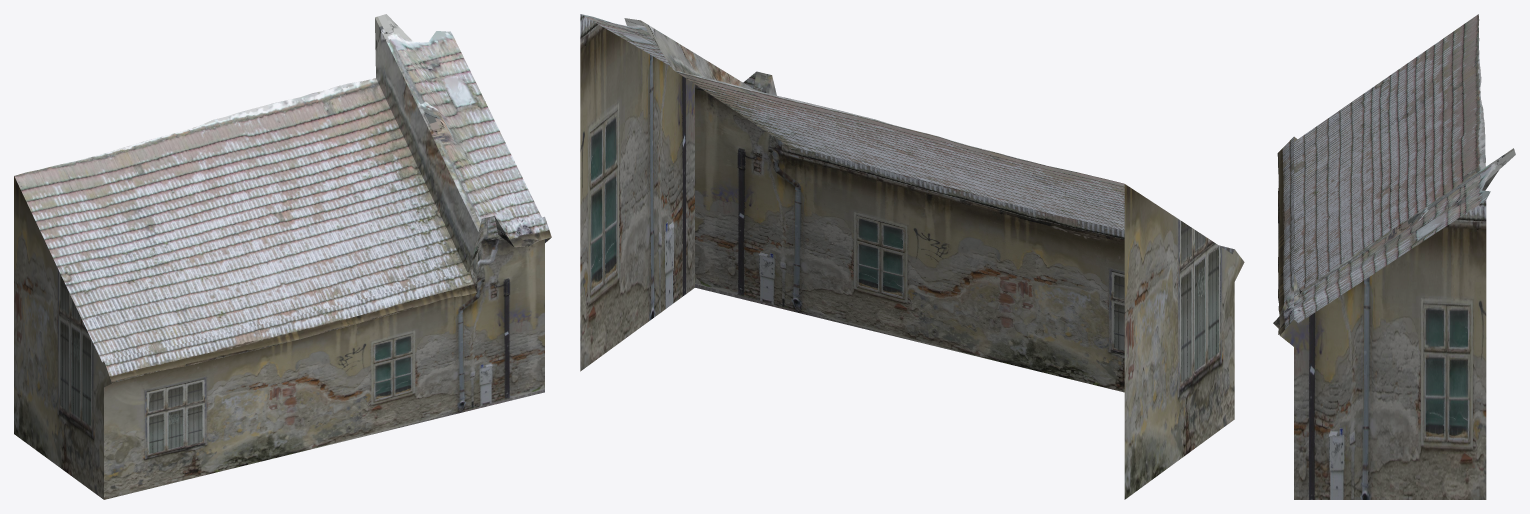
File: house_c.glb
The picture shows the model from 3 angles, left to right: view 1: azimuth 30°, elevation 25°; view 2: azimuth 150°, elevation 25°; view 3: azimuth 270°, elevation 25°; orthographic projection. The views are drawn at different scales.
Parts seen in each view (by area): view 1: old_house_3; view 2: old_house_3; view 3: old_house_3.
Boxes of the visible parts, <box> form: old_house_3: <box>14,14,551,499</box>; old_house_3: <box>580,14,1244,499</box>; old_house_3: <box>1273,14,1515,499</box>.
Size of the model in its own units: 8.11 by 5.49 by 3.77.
1 material, 1 textured.
